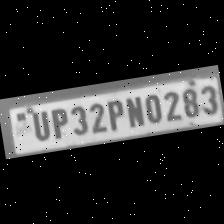0: (140, 90, 164, 125)
2: (158, 88, 182, 123), (85, 100, 108, 136)
3: (66, 101, 90, 138), (196, 81, 220, 117)
8: (178, 86, 201, 120)
N: (122, 94, 144, 130)
P: (46, 104, 71, 140), (103, 96, 127, 132)
U: (25, 106, 51, 142)
